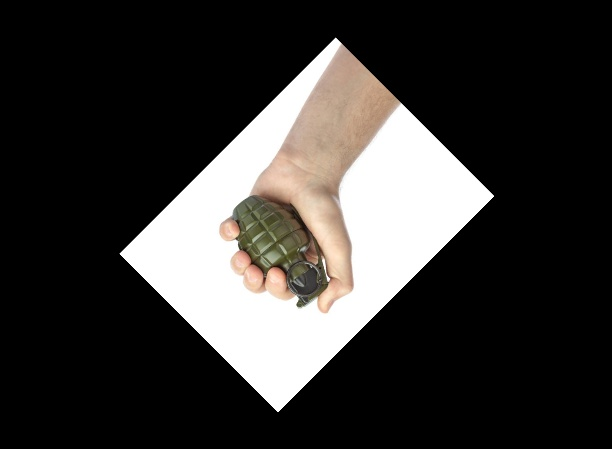e1: (224, 191, 328, 307)
